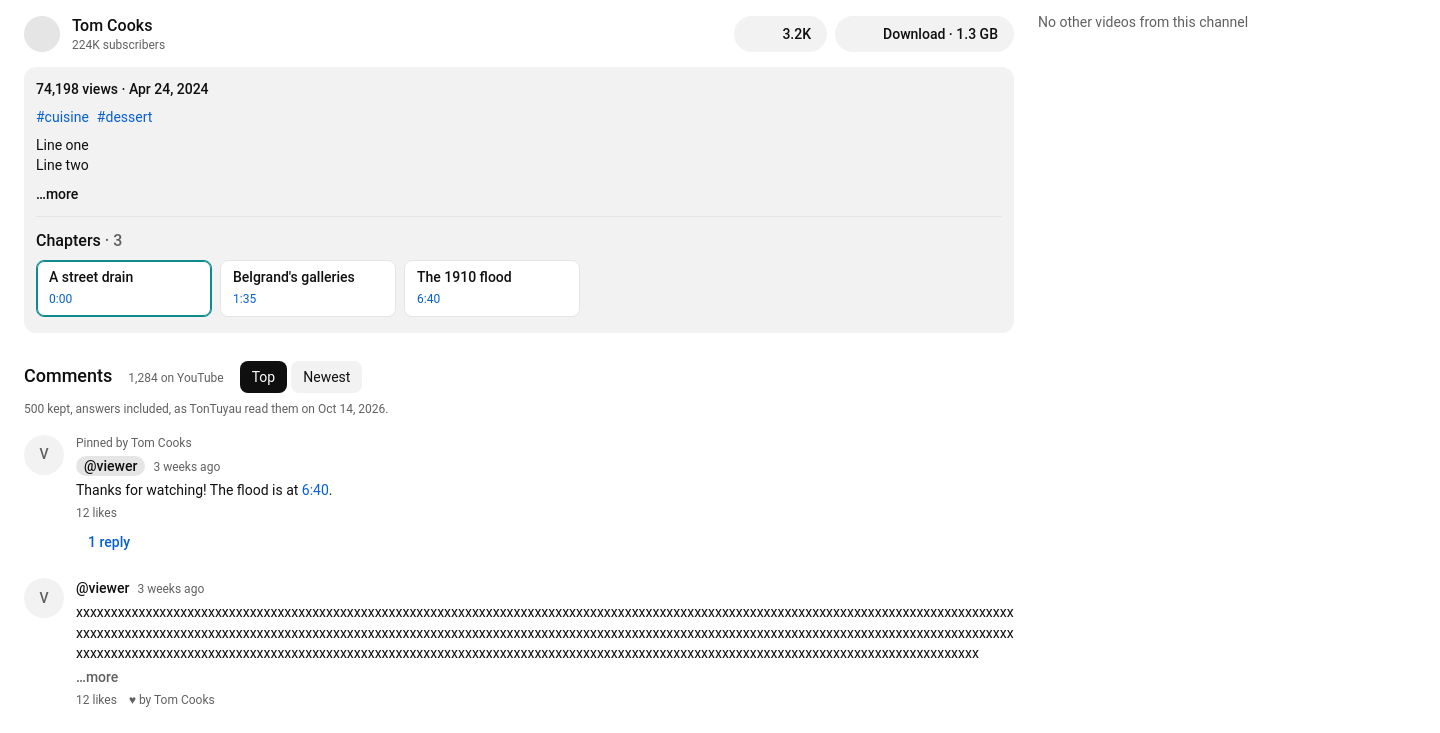
Test: WatchPage › chapters and comments (1.5) › shows the comments: pinned, by the channel, hearted, answers on demand, long ones folded
(page scrolled)
Expected: the text "1,284 on YouTube" is shown, 128,370 -> 224,387
Expected: the text "500 kept, answers included" is shown, 24,402 -> 388,416
Step 1. Click the button "1 reply" → (109, 542), box 76,526 -> 142,558
(page scrolled)
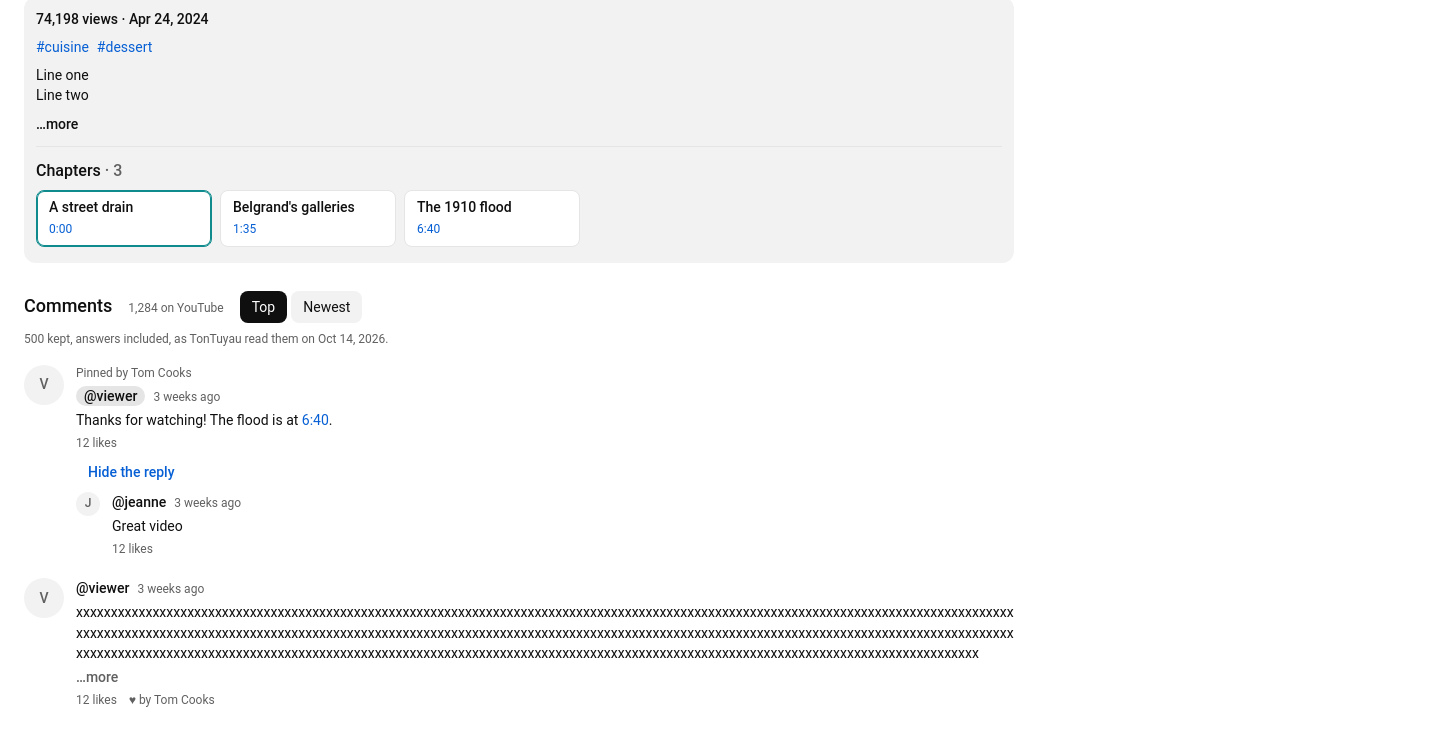
Expected: the text "Great video" is shown, 112,518 -> 183,534
Step 2. Click the button "…more" below "Great video" → (97, 678), box 76,667 -> 118,688
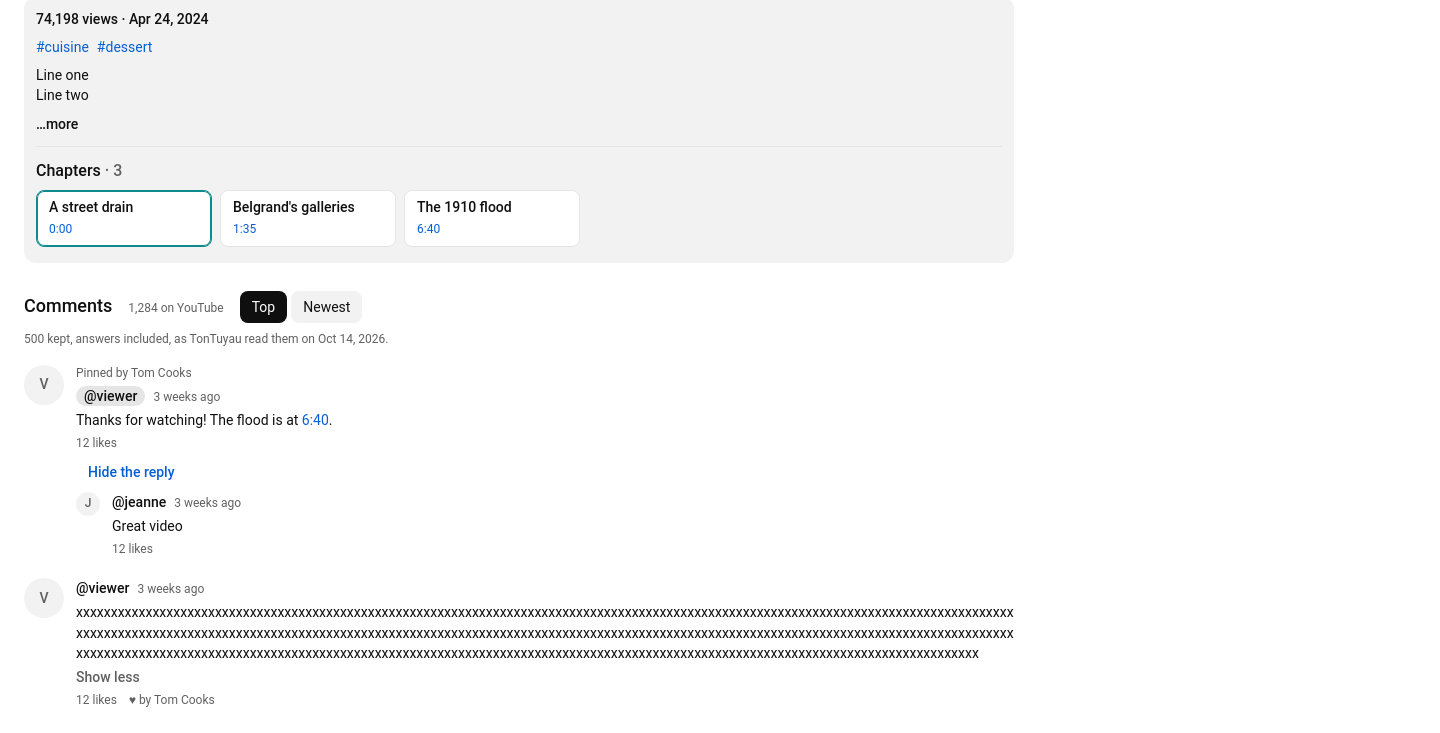
Expected: the button "Show less" is shown, 76,667 -> 140,688
